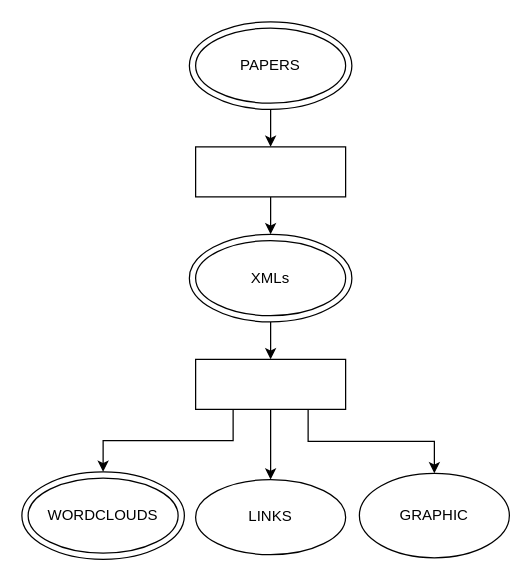
This 531x581 diagram has some shape labels left out. Each missing label, with the centre of its shape:
GROBID: (x=270, y=171)
SCRIPTS: (x=270, y=383)
